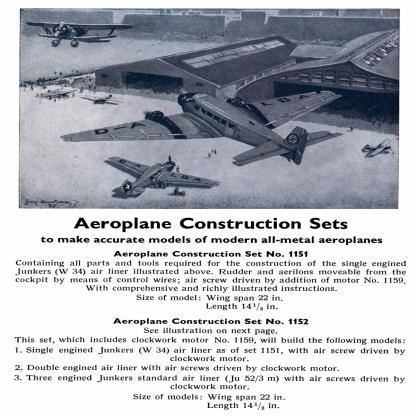CIV_Plane: (47, 90, 342, 167)
